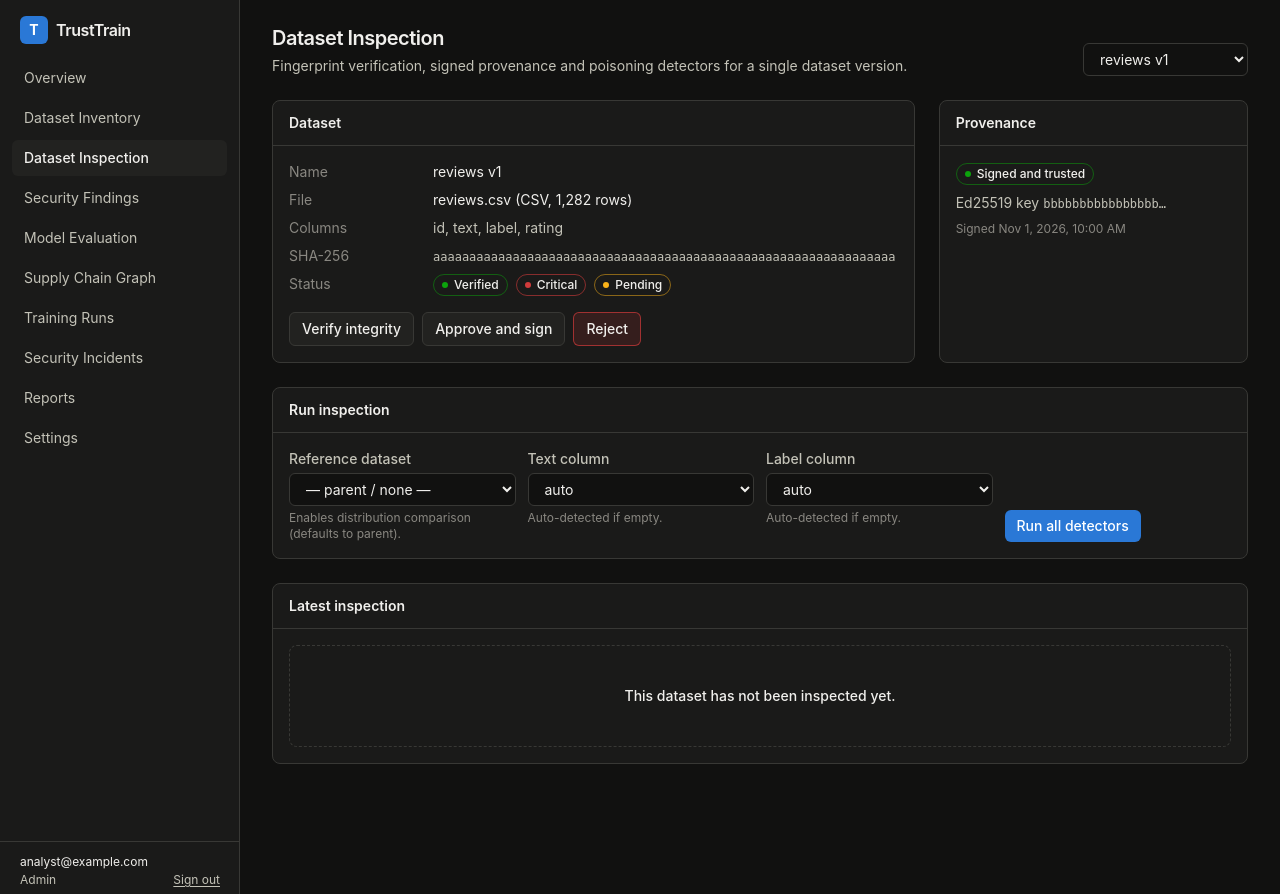
dataset inspection › runs an inspection and shows explainable findings
Expected: the text "This dataset has not been inspected yet." is shown, [624, 687, 896, 704]
Expected: the text "Signed and trusted" is shown, [956, 163, 1094, 185]
Click the button "Run all detectors" at (1073, 526), box [1004, 510, 1141, 542]
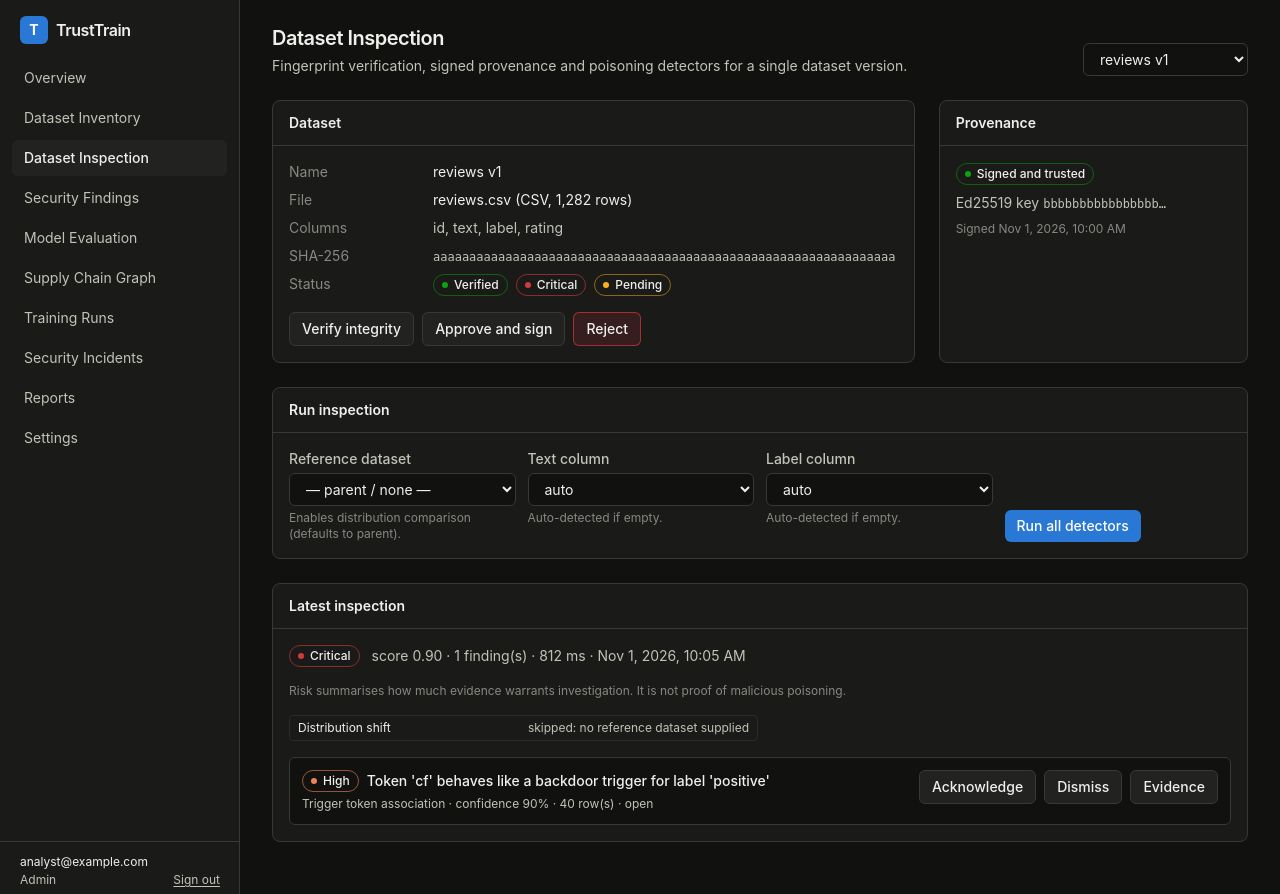
Expected: the heading "Token 'cf' behaves like a backdoor trigger for label 'positive'" is shown, [367, 771, 770, 791]
Expected: the text "skipped: no reference dataset supplied" is shown, [528, 720, 749, 736]
Click the button "Evidence" at (1174, 787), box [1130, 770, 1218, 804]
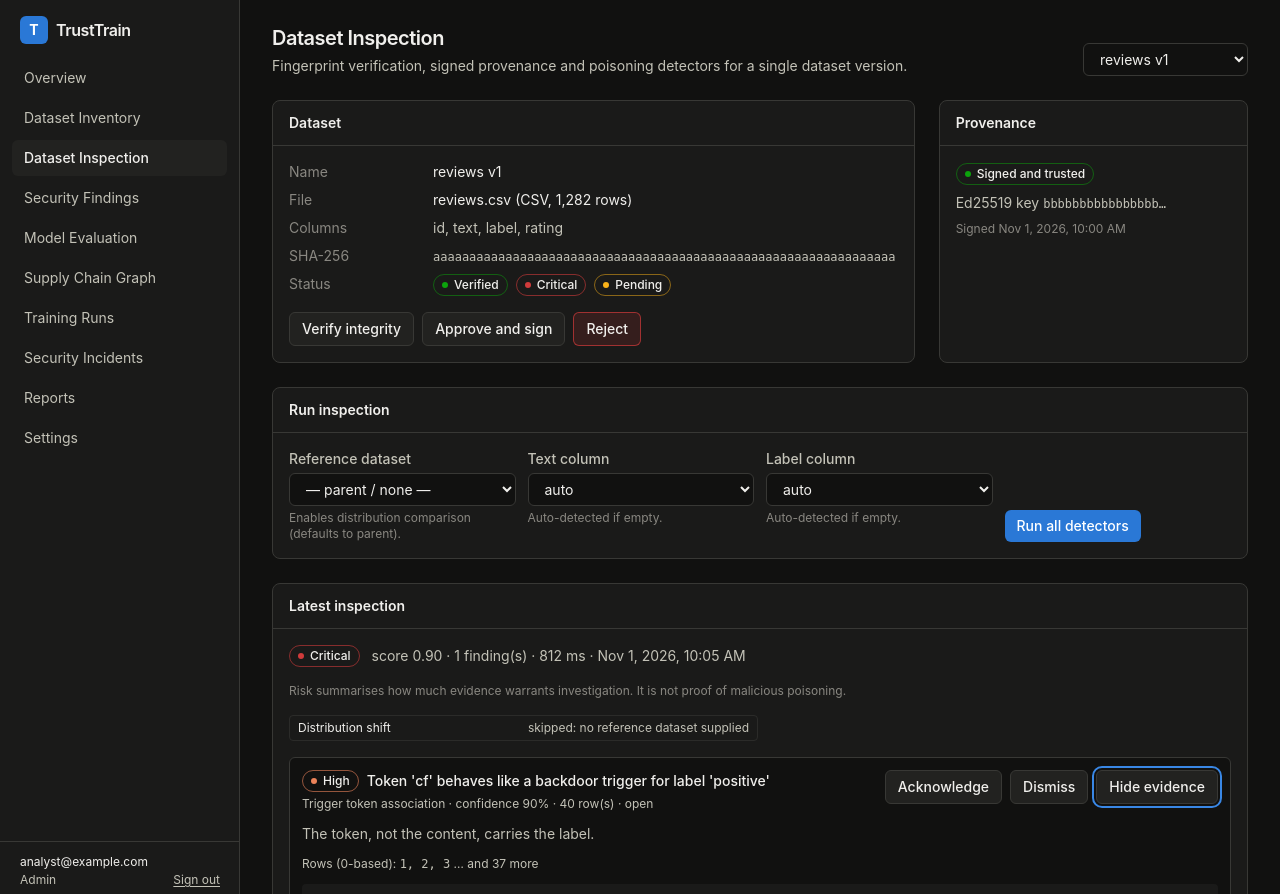
Expected: the text "Rows (0-based): 1, 2, 3 … and 37 more" is shown, [302, 856, 538, 871]
